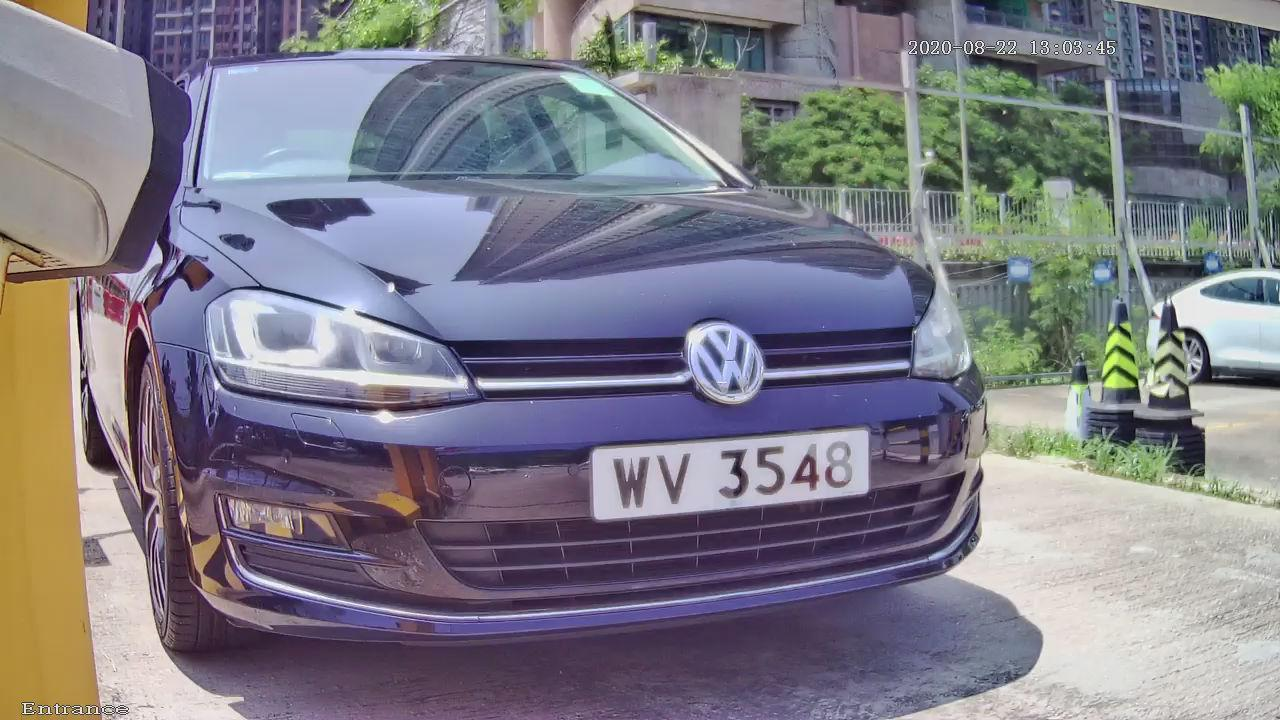Car: (46, 13, 1075, 695)
License Plate: (522, 361, 981, 564)
